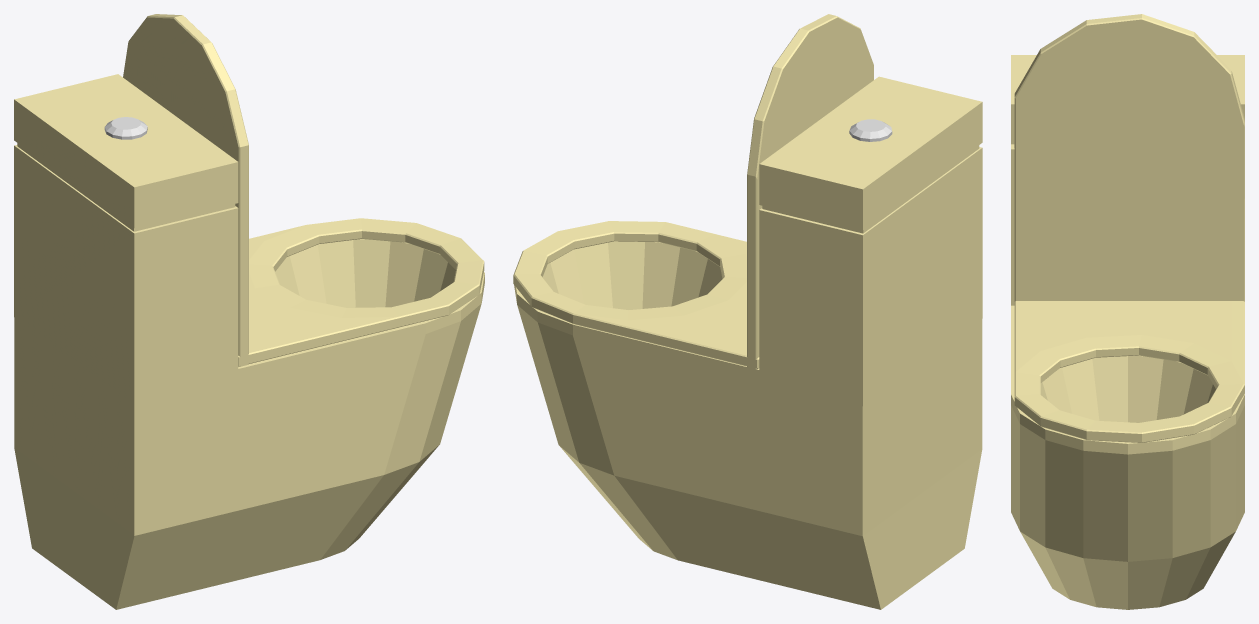
File: Bathroom_-_Toilet.fbx
3 views of the same model, side by side, from view 1: azimuth 30°, elevation 25°; view 2: azimuth 150°, elevation 25°; view 3: azimuth 270°, elevation 25° (orthographic). The views are drawn at different scales.
Parts seen in each view (by area): view 1: Cube.265, Cylinder.021, Cylinder.022, Cylinder.023; view 2: Cube.265, Cylinder.021, Cylinder.022, Cylinder.023; view 3: Cylinder.022, Cube.265, Cylinder.021.
Boxes of the visible parts, box(x1,y1,x2,y2) form: Cube.265: box(14, 74, 484, 609); Cylinder.021: box(238, 218, 484, 366); Cylinder.022: box(123, 14, 248, 366); Cylinder.023: box(104, 117, 147, 139); Cube.265: box(514, 76, 982, 609); Cylinder.021: box(513, 221, 759, 368); Cylinder.022: box(747, 14, 873, 369); Cylinder.023: box(849, 119, 892, 141); Cylinder.022: box(1014, 14, 1244, 301); Cube.265: box(1011, 55, 1244, 609); Cylinder.021: box(1014, 301, 1244, 442).
Bounding box in the file's own units: 228 × 292 × 120.
